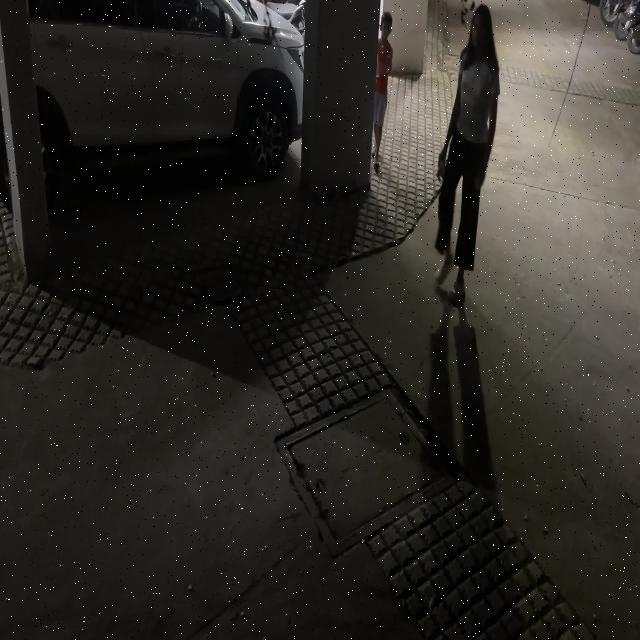human: (430, 0, 499, 313), (368, 5, 401, 173)
